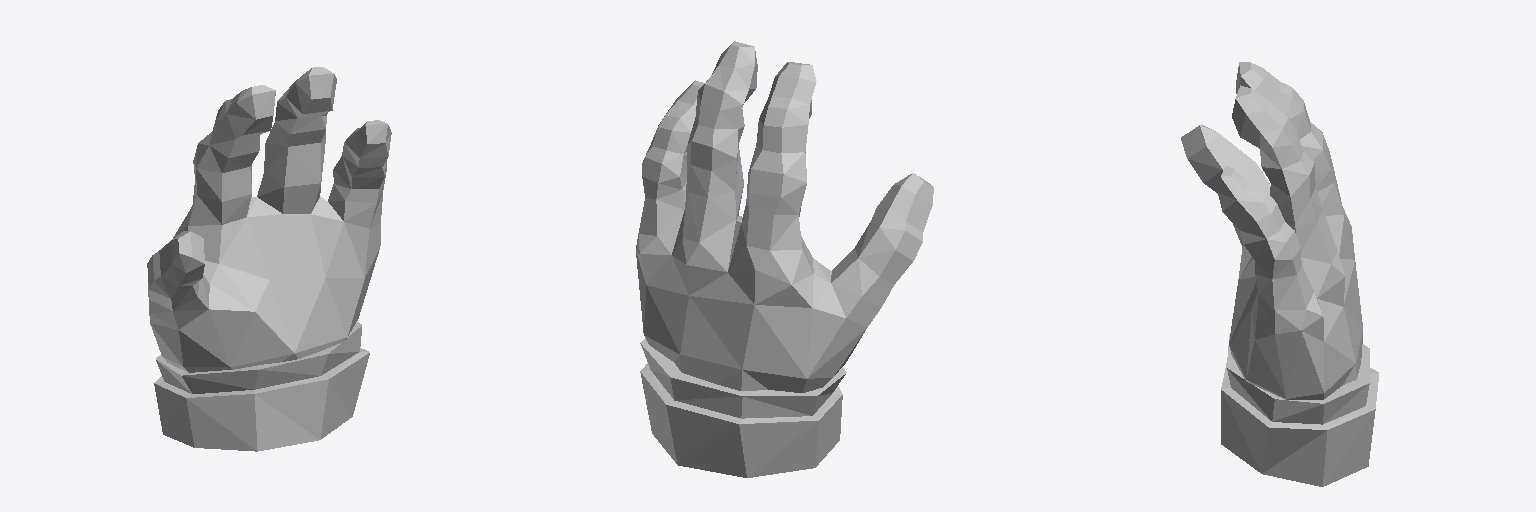
File: obmlh.obj
The picture shows the model from 3 angles: view 1: azimuth 30°, elevation 25°; view 2: azimuth 150°, elevation 25°; view 3: azimuth 270°, elevation 25°; orthographic projection.
Visible parts, largest first — view 1: Righthand_Barak_Obama.001; view 2: Righthand_Barak_Obama.001; view 3: Righthand_Barak_Obama.001.
Boxes of the visible parts, x1,y1,x2,y2 form: Righthand_Barak_Obama.001: [147, 67, 391, 451]; Righthand_Barak_Obama.001: [636, 41, 933, 477]; Righthand_Barak_Obama.001: [1181, 62, 1378, 486].
Size of the model in its own units: 0.5482 by 0.7673 by 0.3674.